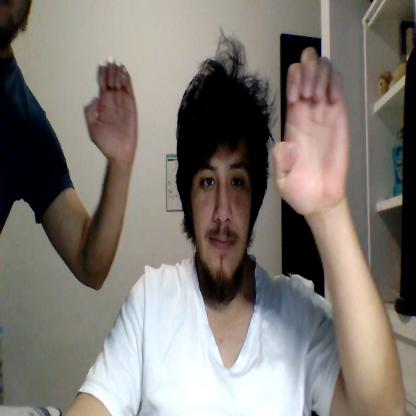E: (272, 48, 350, 214), (84, 58, 139, 161)
